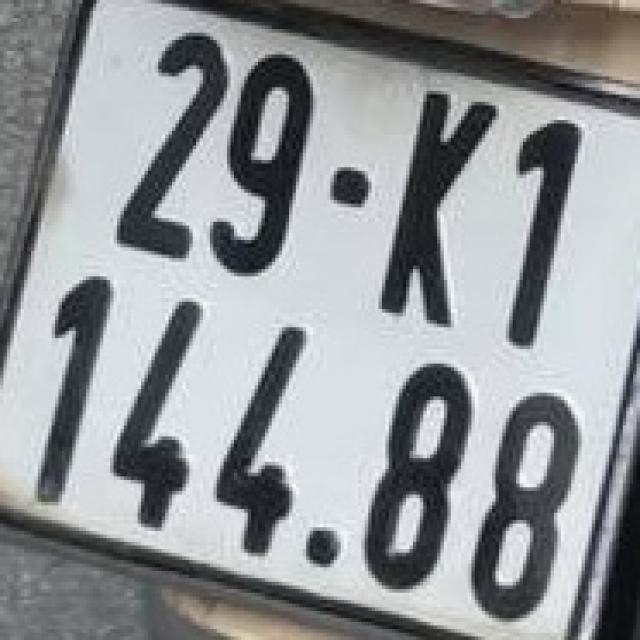1: (495, 91, 592, 353), (28, 269, 114, 509)
2: (104, 22, 224, 266)
4: (210, 306, 313, 564), (110, 287, 203, 535)
8: (358, 356, 475, 596), (468, 382, 581, 626)
9: (206, 44, 320, 280)
K: (372, 76, 488, 331)
